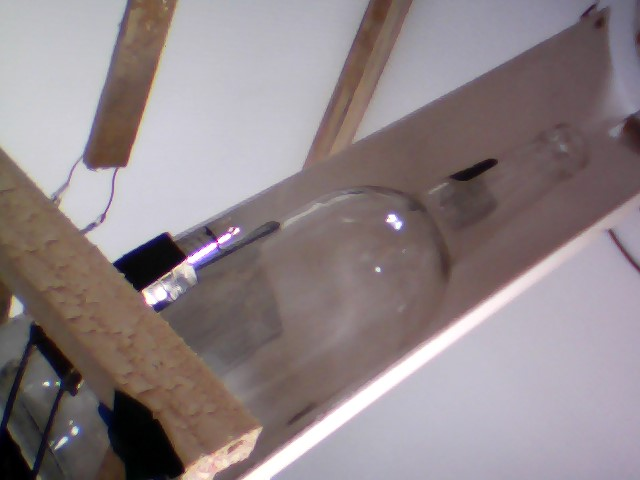vidrio: (206, 116, 598, 462)
